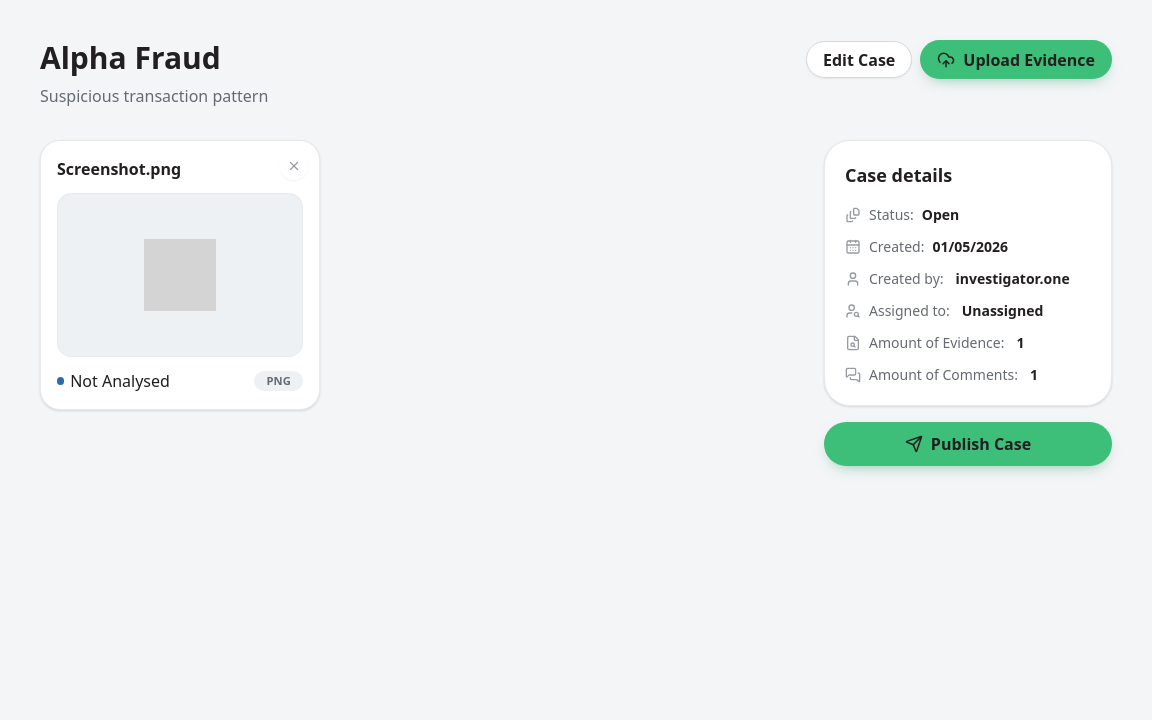
Scenario: CasePage (integration) › edits the case name and description and reflects the change after reload
This screenshot has width=1152, height=720.
expect the heading "Alpha Fraud" is shown: met, box [40,40,221,76]
Click the button "Edit Case" at [859, 60], box [806,41,912,78]
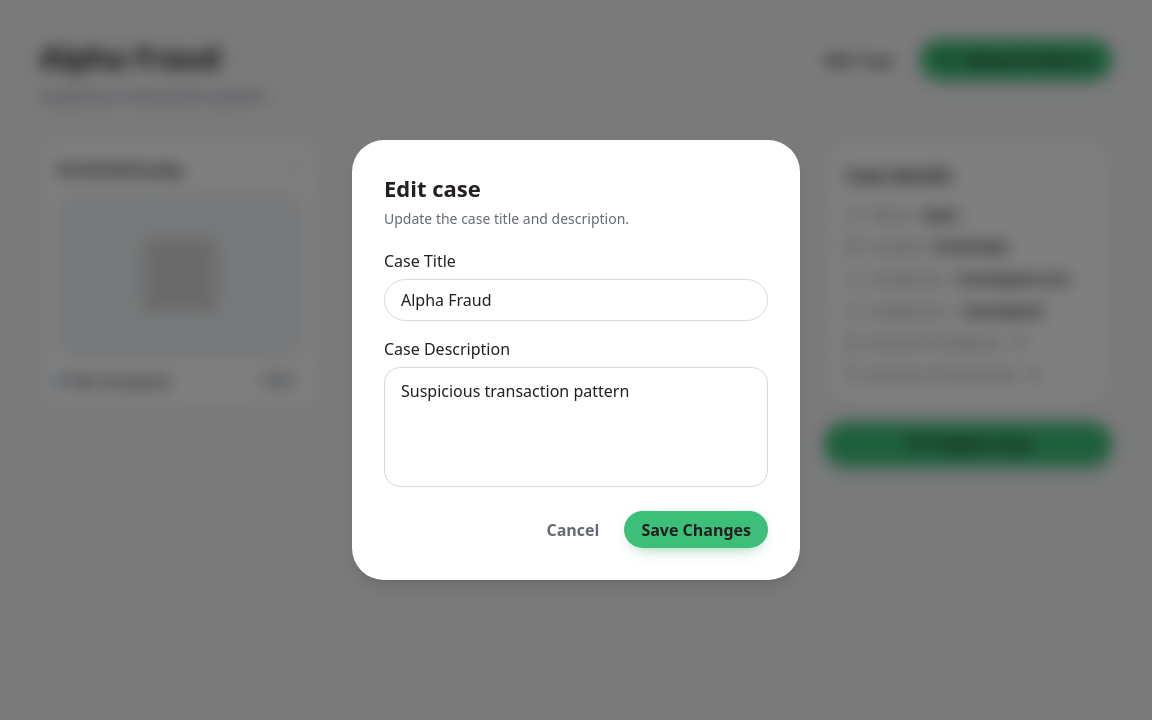
Replace the text in the field showing "Alpha Fraud" with "Alpha Fraud (Updated)" at [576, 300], box [384,279,768,321]
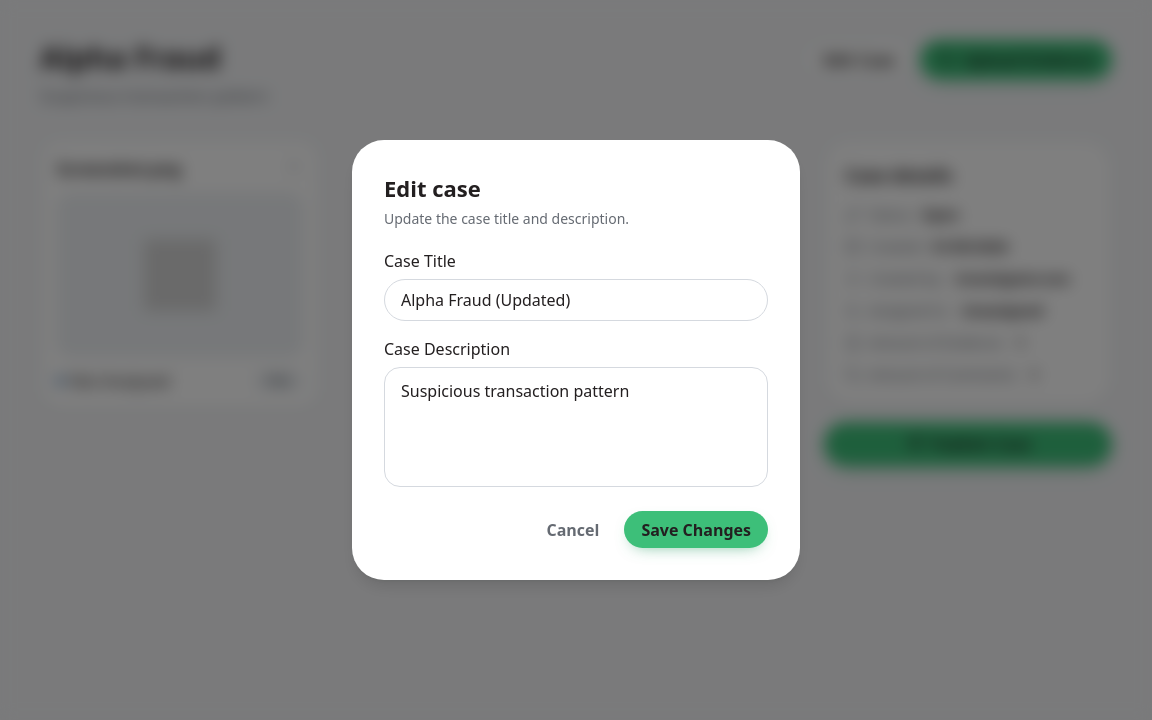
Replace the text in the text box showing "Suspicious transaction pattern" with "Escalated" at [576, 427], box [384,367,768,487]
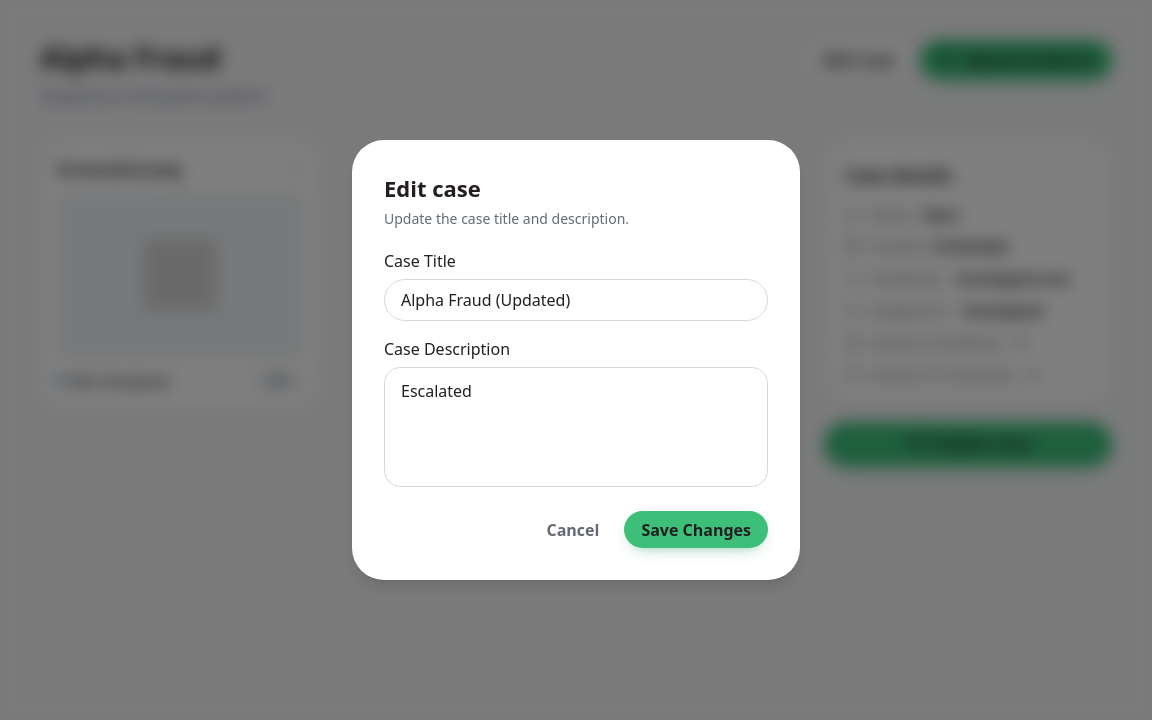
Click the button "Save Changes" at [696, 530], box [624,511,768,548]
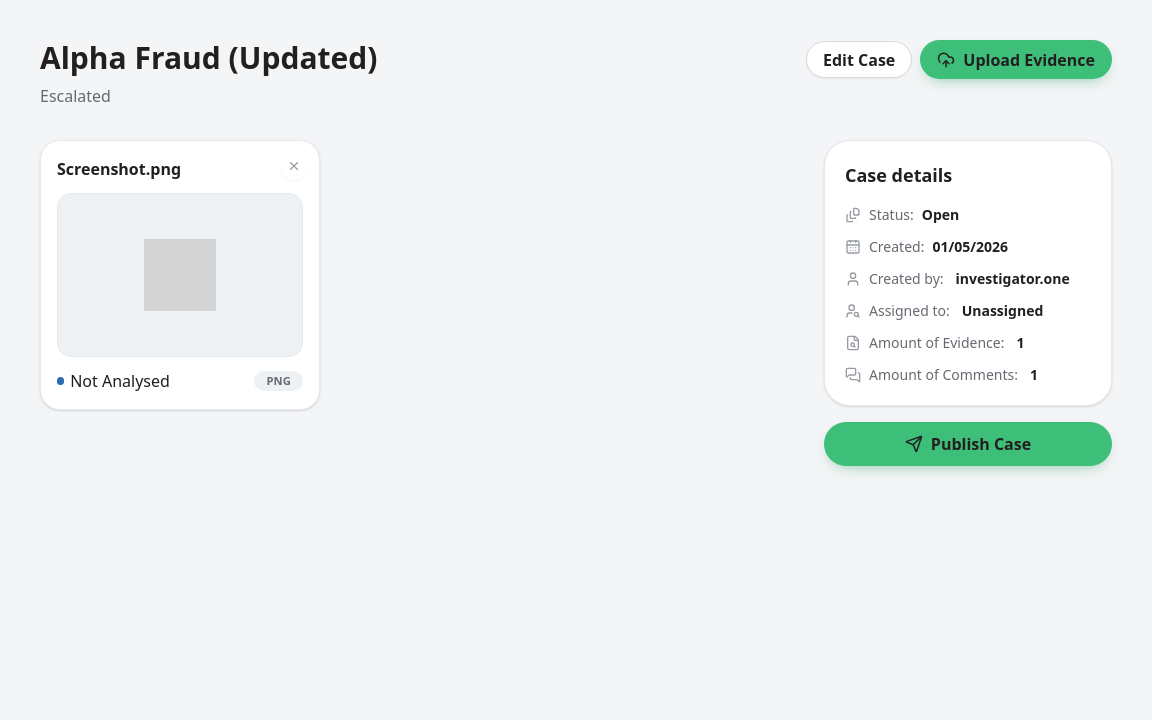
expect the heading "Alpha Fraud (Updated)" is shown: met, box [40,40,378,76]
expect the text "Escalated" is shown: met, box [40,85,111,107]
